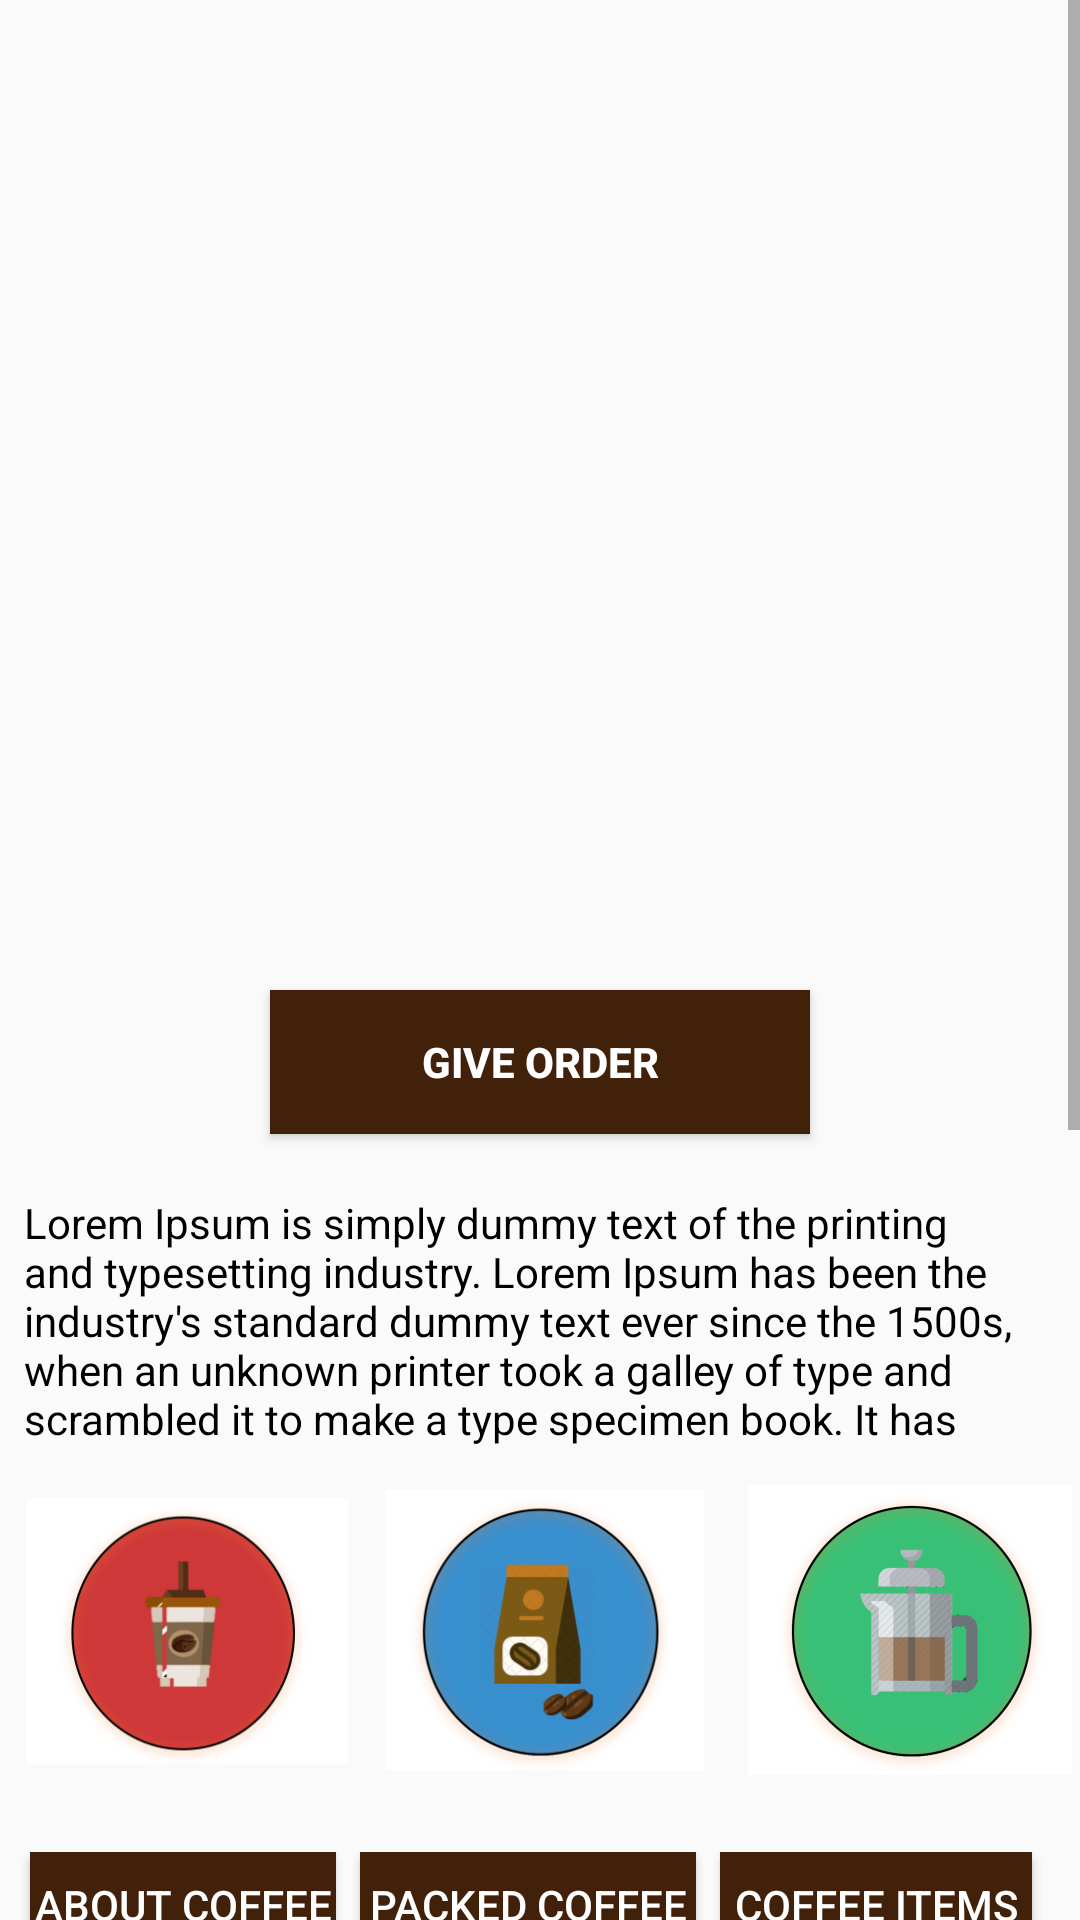

Where icons sit on this 1080x1920 app screen, as (x1, y1, x2, y2):
presshomepageimage: (791, 1505, 1032, 1759)
